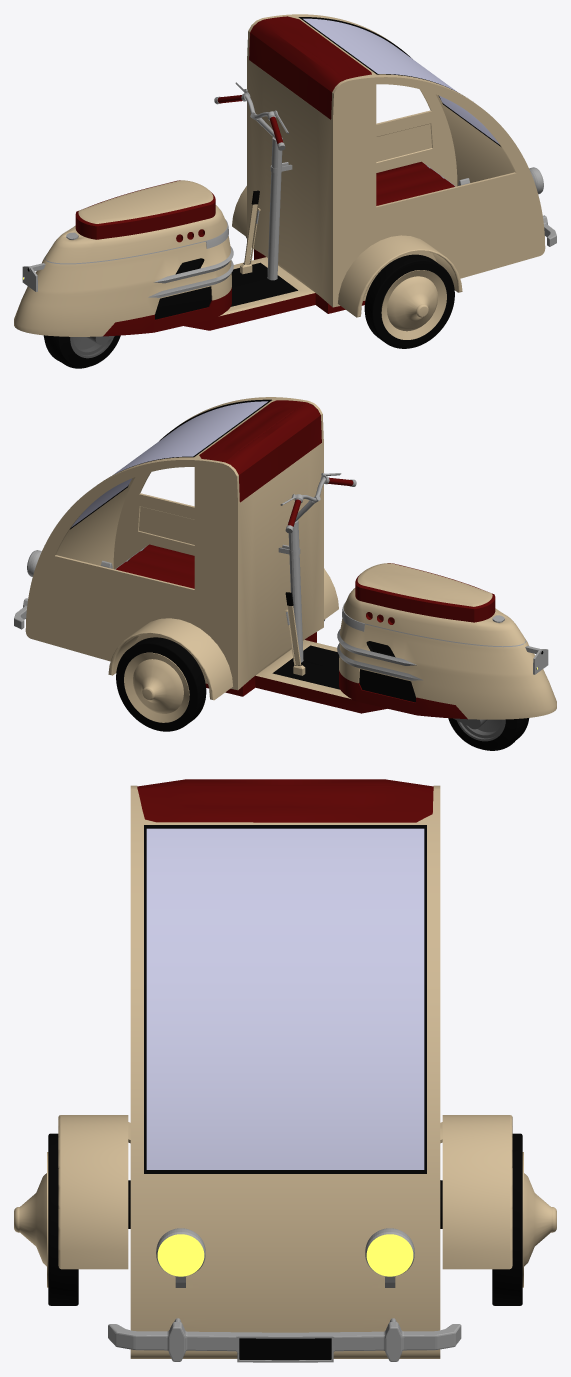
3 renders of one model, top to bottom at view 1: azimuth 30°, elevation 25°; view 2: azimuth 150°, elevation 25°; view 3: azimuth 270°, elevation 25°, orthographic. The views are drawn at different scales.
Visible parts, largest first — view 1: engine; view 2: engine; view 3: engine.
Part boxes in pixels (x1,y1,x2,y2): engine: [14, 14, 556, 368]; engine: [14, 397, 556, 750]; engine: [14, 779, 556, 1362].
Size of the model in its own units: 4.71 by 2.37 by 2.46.
